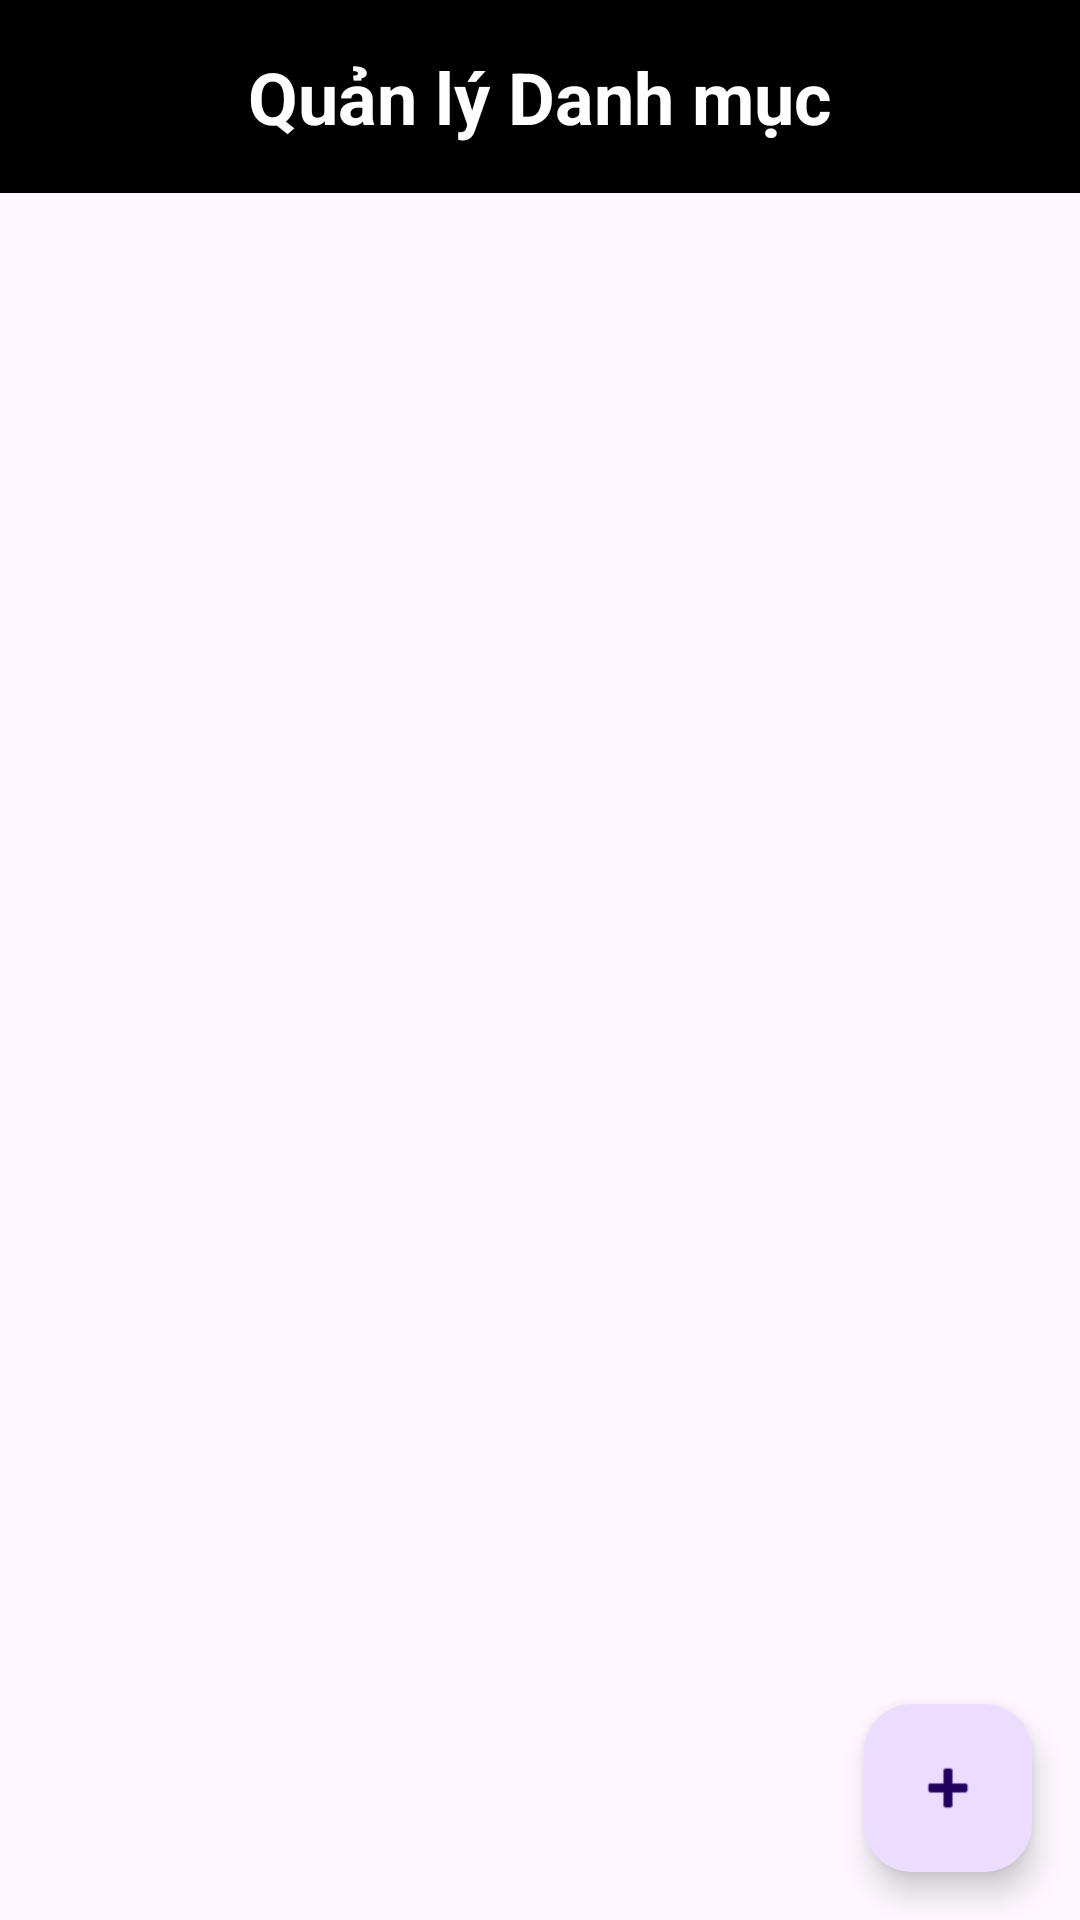

Icon click points for this 1080px x 1920px phone screenshot, format (x=x, y=y):
Thêm Danh mục Mới: (x=948, y=1788)
